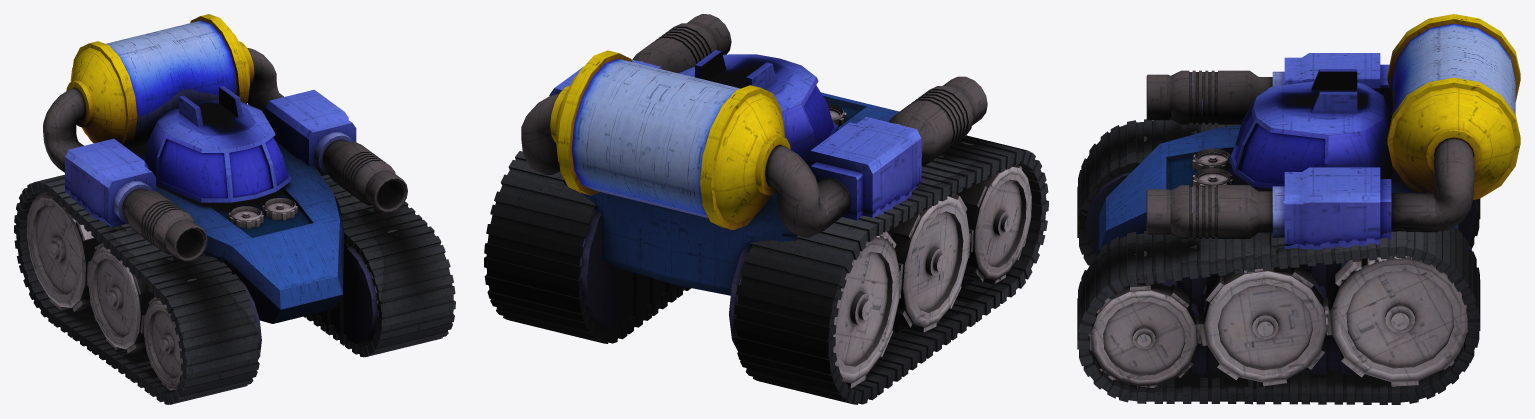
The model's file is PlayerB4.obj.
3 renders of one model, left to right at view 1: azimuth 30°, elevation 25°; view 2: azimuth 150°, elevation 25°; view 3: azimuth 270°, elevation 25°, orthographic. The views are drawn at different scales.
Parts seen in each view (by area): view 1: Object001, Box042, Object004, Object003, Object002; view 2: Object001, Box042, Object003, Object004, Object002; view 3: Object001, Box042, Object004, Object003, Object002.
Part boxes in pixels (<box>): Object001: <box>43,14,407,359</box>; Box042: <box>14,174,455,404</box>; Object004: <box>26,193,100,311</box>; Object003: <box>87,243,154,352</box>; Object002: <box>143,297,182,390</box>; Object001: <box>521,14,987,351</box>; Box042: <box>484,135,1048,404</box>; Object003: <box>890,194,970,332</box>; Object004: <box>833,231,901,388</box>; Object002: <box>960,164,1031,284</box>; Object001: <box>1085,14,1520,374</box>; Box042: <box>1077,119,1480,404</box>; Object004: <box>1325,255,1468,386</box>; Object003: <box>1199,266,1328,386</box>; Object002: <box>1088,281,1201,387</box>.
Size of the model in its own units: 121 by 102 by 147.
2 materials, 2 textured.
